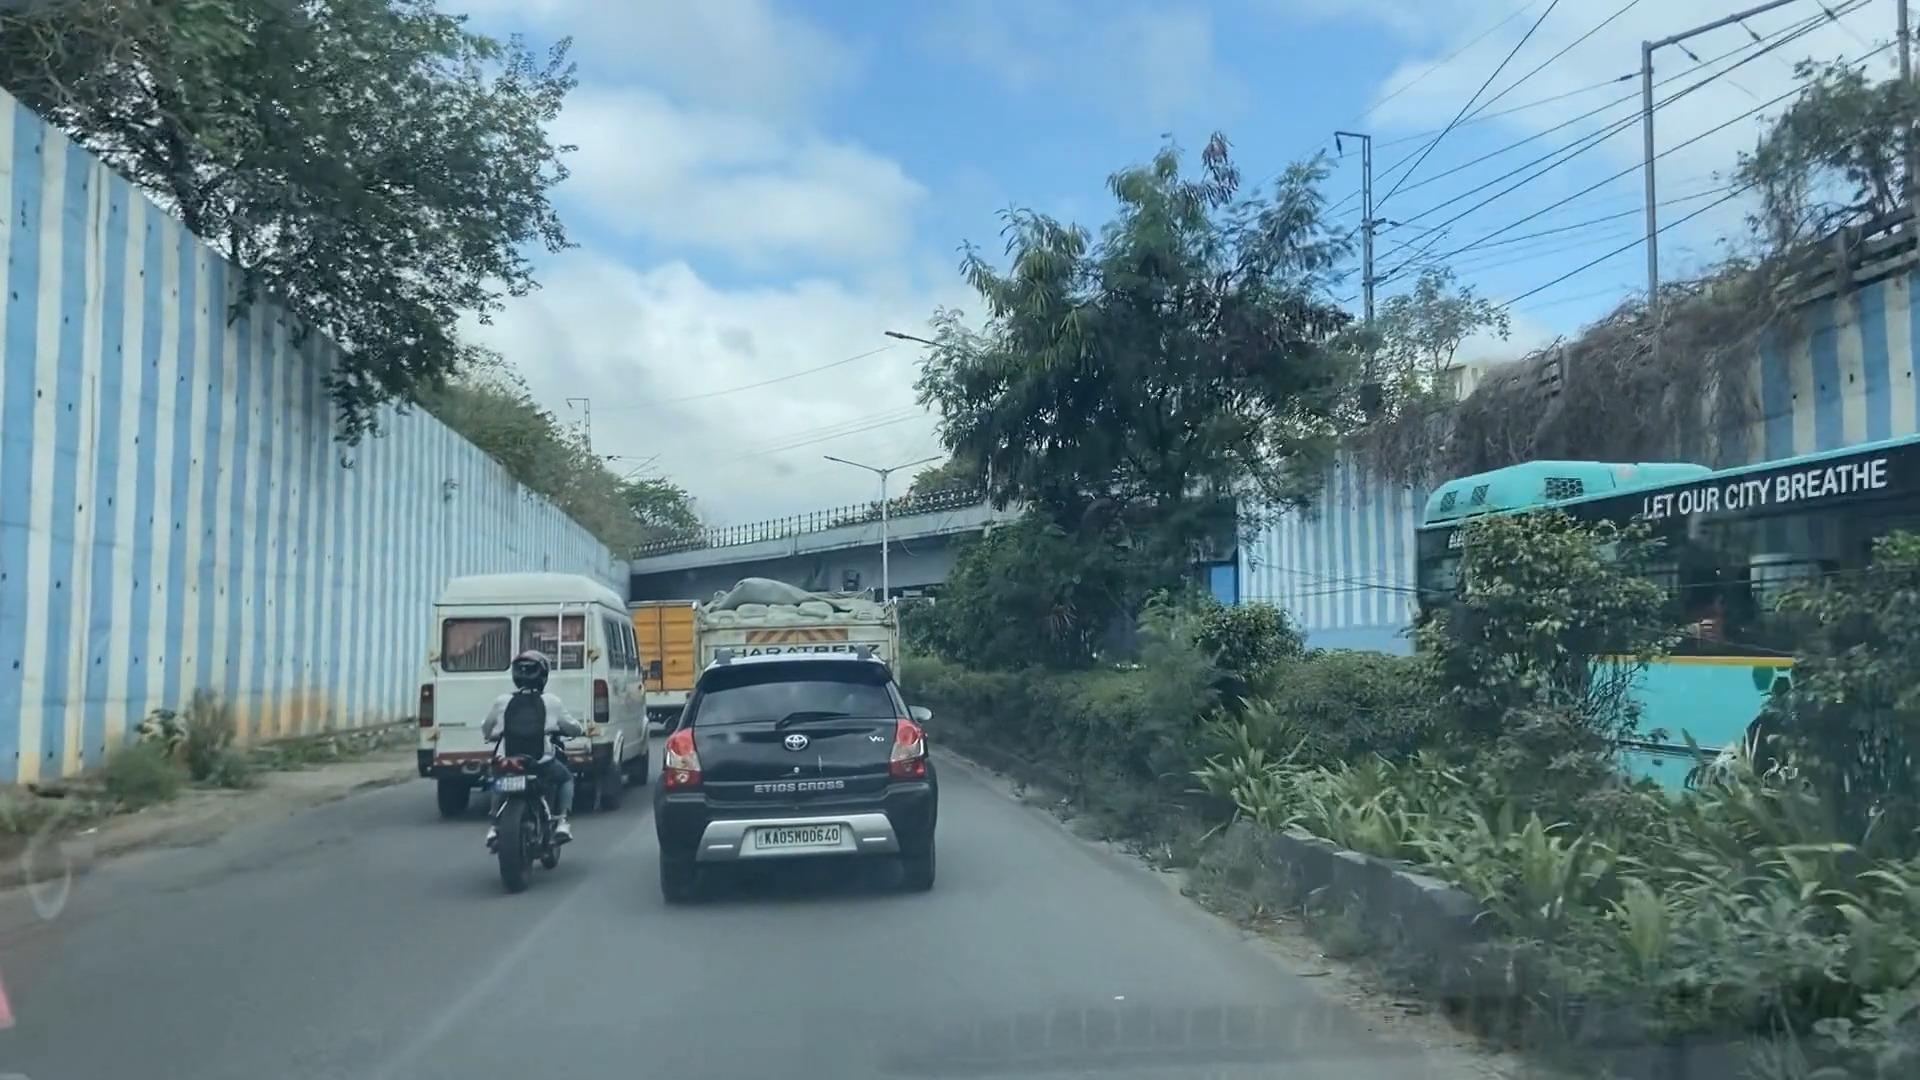HMV: (429, 585, 645, 811)
LMV: (655, 663, 936, 898), (471, 637, 571, 887)
